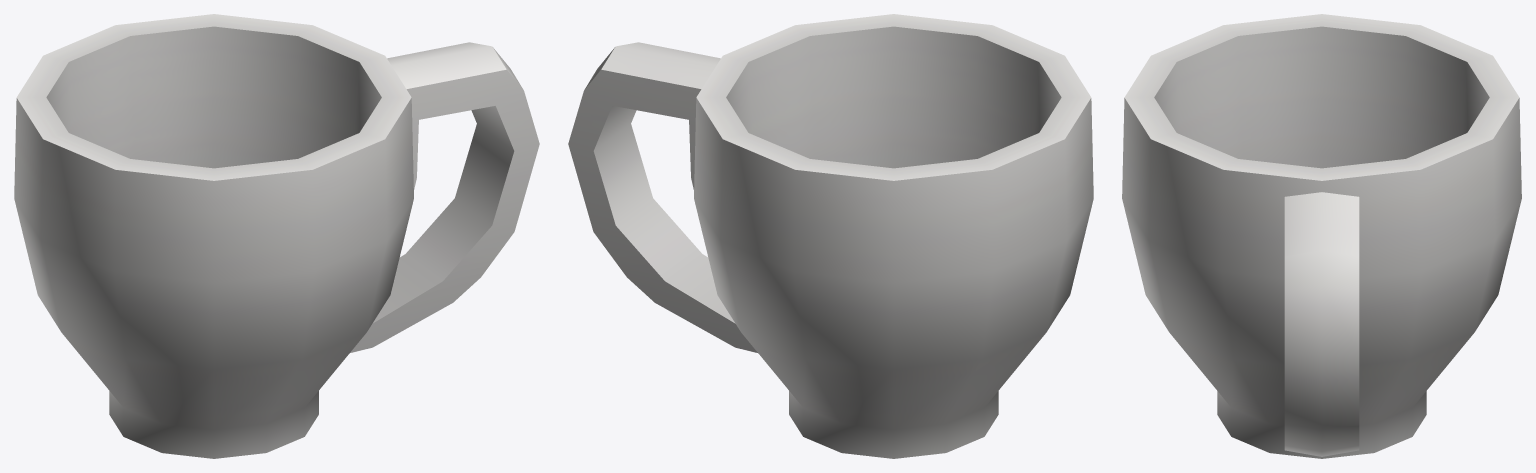
Rendered from CoffeeCup.fbx.
3 renders of one model, left to right at view 1: azimuth 30°, elevation 25°; view 2: azimuth 150°, elevation 25°; view 3: azimuth 270°, elevation 25°, orthographic.
Parts seen in each view (by area): view 1: CoffeeCup; view 2: CoffeeCup; view 3: CoffeeCup.
Boxes of the visible parts, bbox=[...] form: CoffeeCup: bbox=[14, 14, 539, 458]; CoffeeCup: bbox=[568, 14, 1093, 458]; CoffeeCup: bbox=[1122, 14, 1521, 458].
Size of the model in its own units: 15.09 by 9.4 by 10.74.
